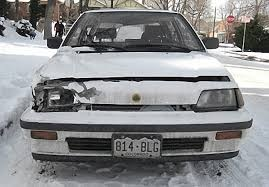Broken-glass: (32, 87, 76, 110)
Scratch: (78, 87, 102, 101)
